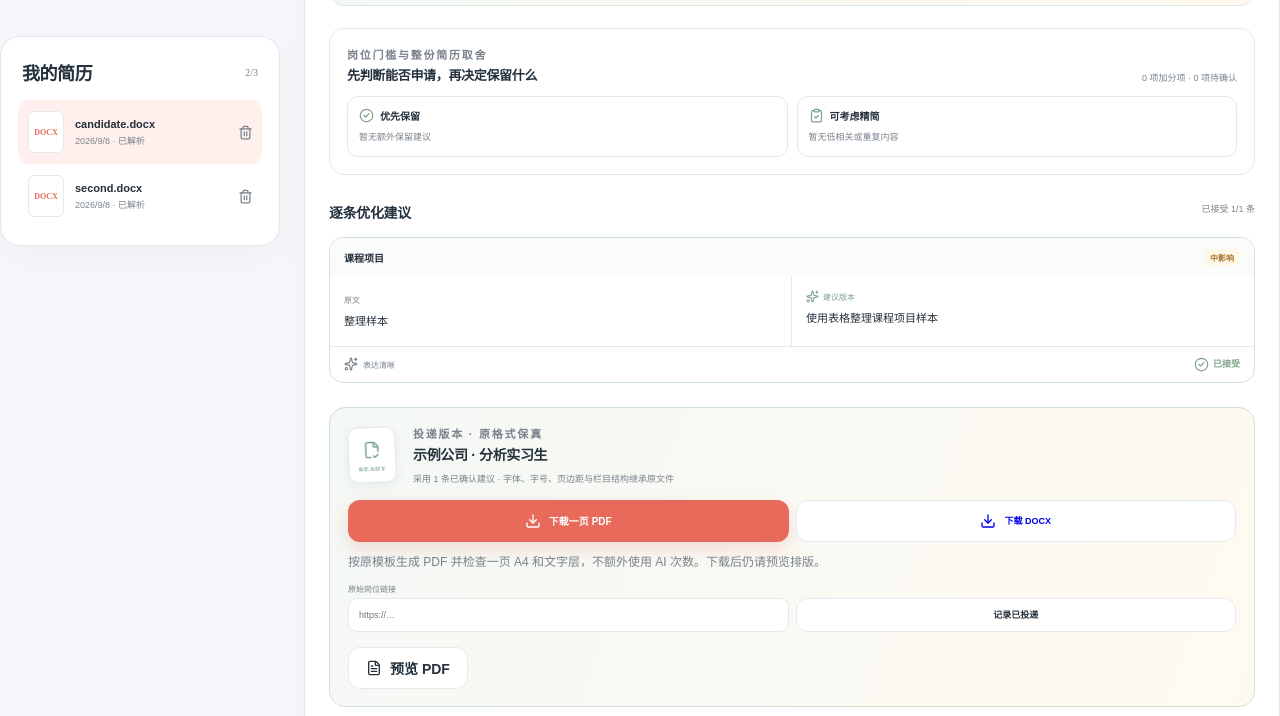
one-page PDF delivery UI › previews a restored version and releases its private URL when switching resumes
(page scrolled)
Click the button "预览 PDF" at (408, 668), box [348,647,468,689]
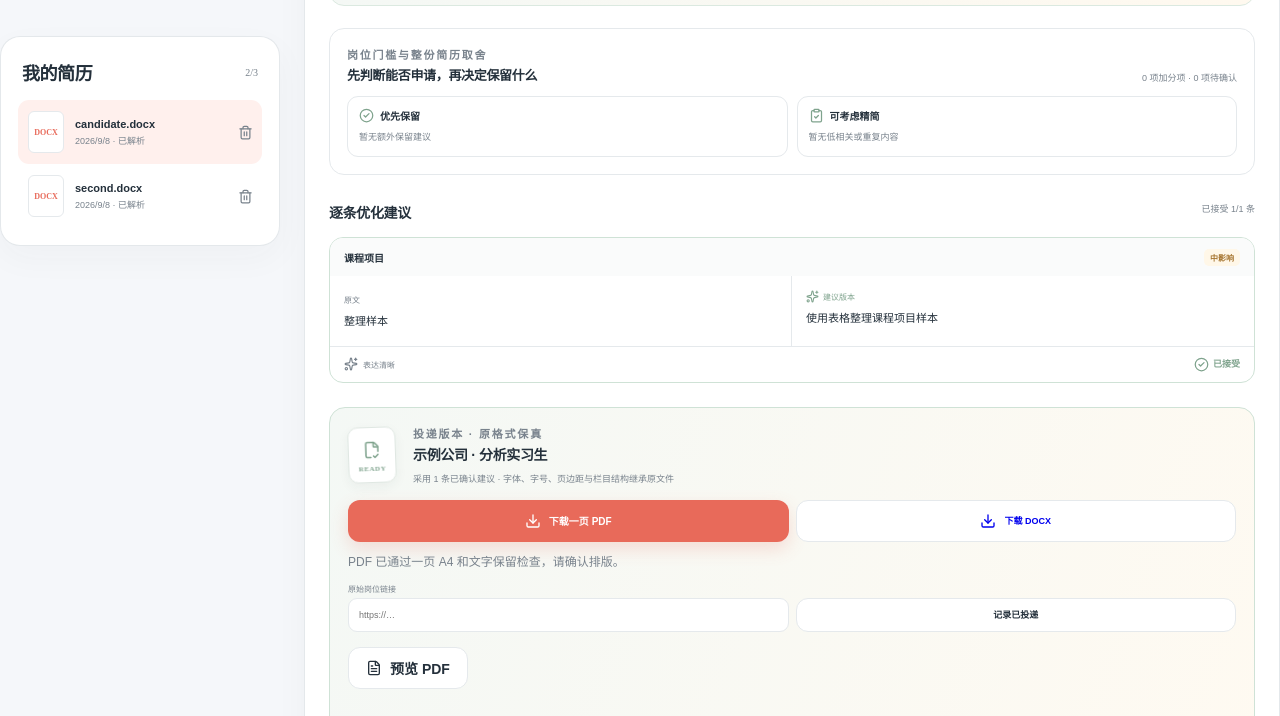
Click the button "DOCX second.docx 2026/9/8 · 已解析" at (124, 196), box [18,164,230,228]
(page scrolled)
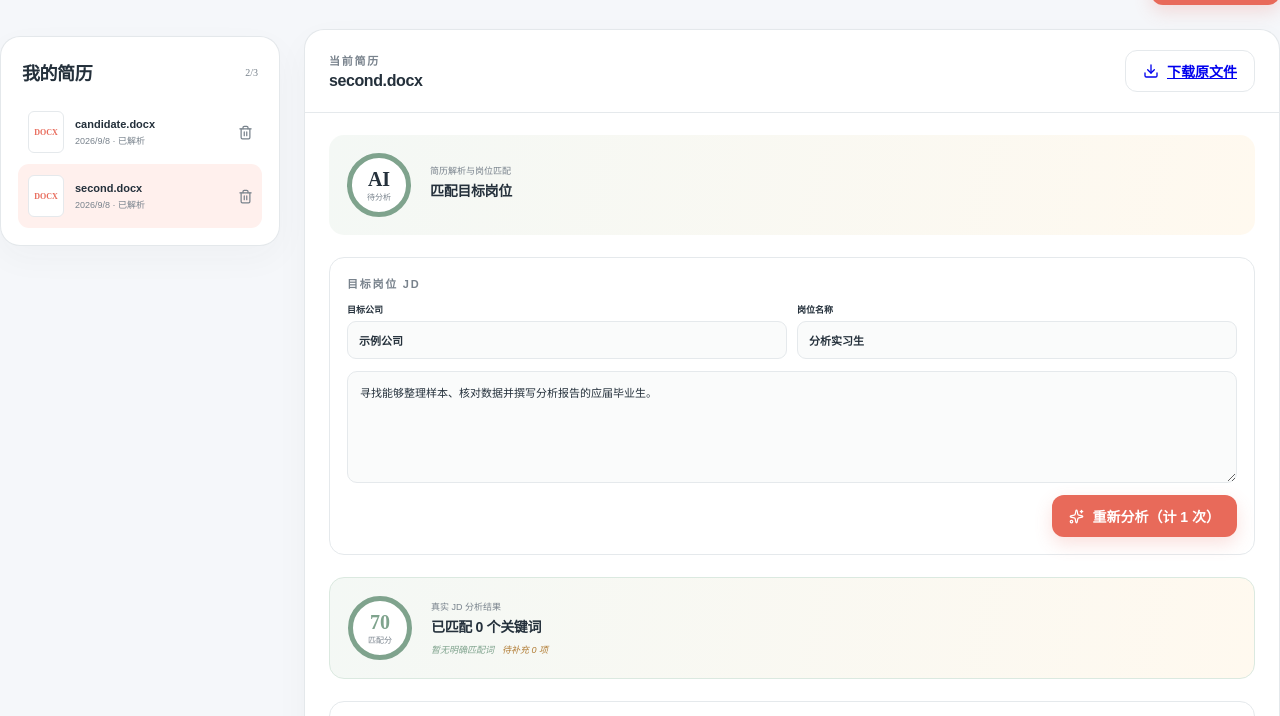
Expected: the heading "second.docx" is shown, [329,72,422,90]
